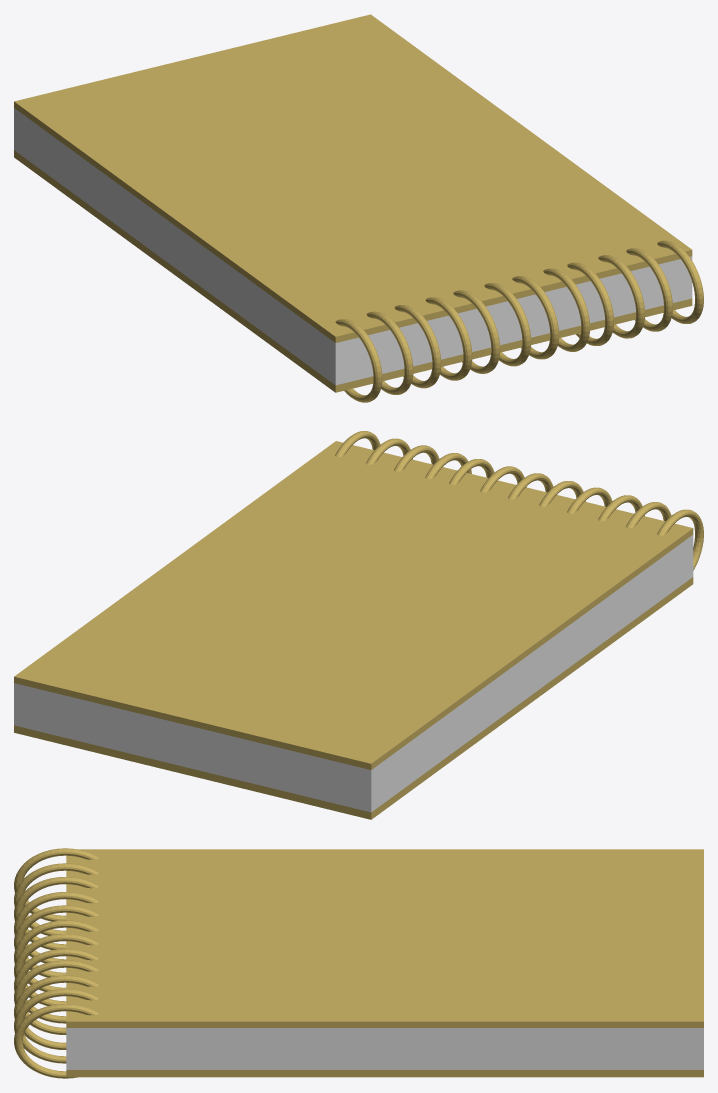
File: Bloknot.fbx
The picture shows the model from 3 angles, top to bottom: view 1: azimuth 30°, elevation 25°; view 2: azimuth 150°, elevation 25°; view 3: azimuth 270°, elevation 25°; orthographic projection.
Visible parts, largest first — view 1: Cube; view 2: Cube; view 3: Cube.
Boxes of the visible parts, x1,y1,x2,y2 form: Cube: [14, 14, 703, 402]; Cube: [14, 431, 703, 819]; Cube: [14, 848, 703, 1078].
Size of the model in its own units: 353 by 70.33 by 596.
